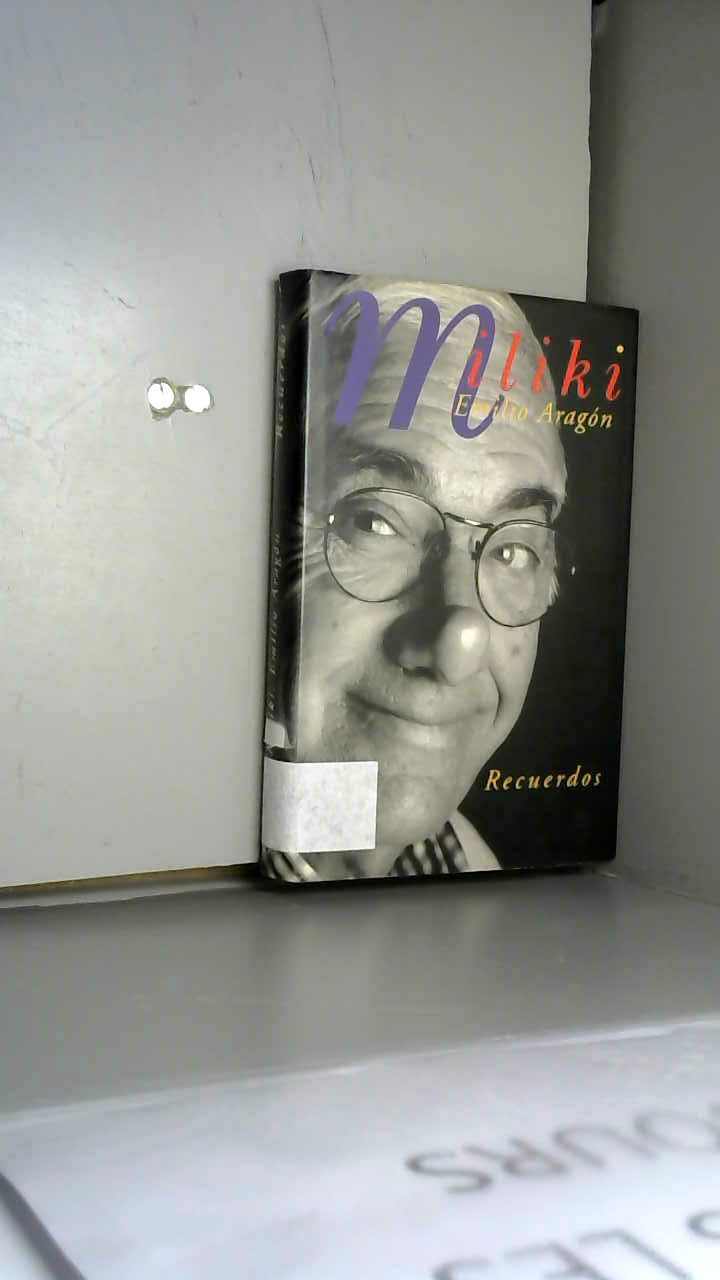book: (230, 240, 718, 904)
